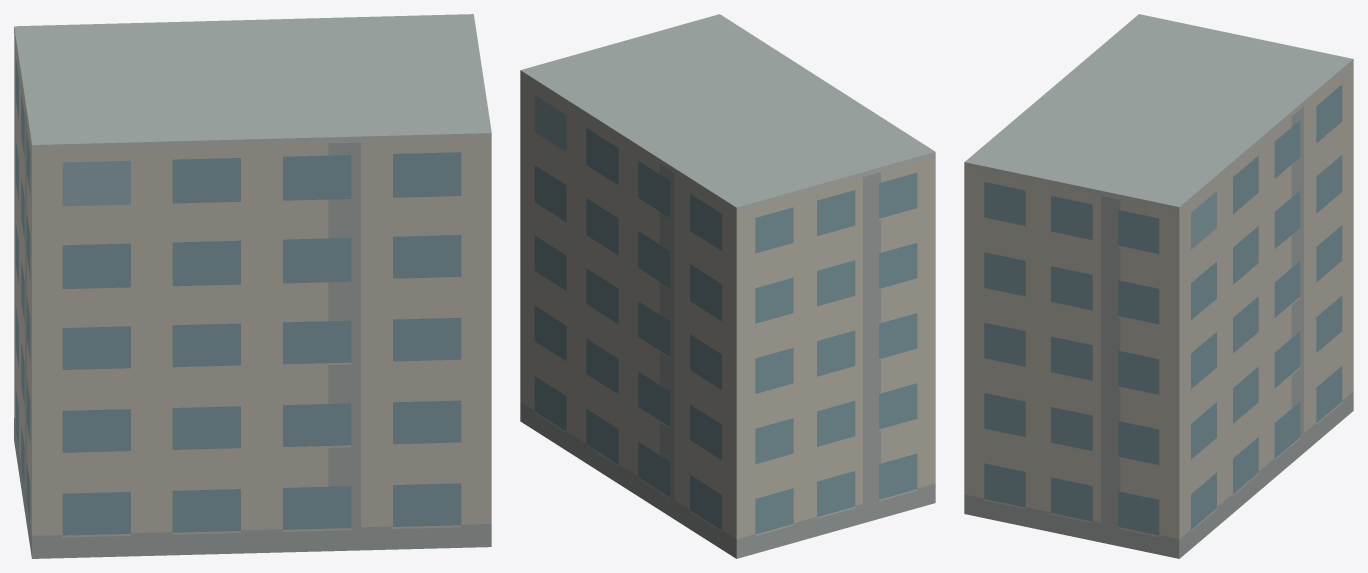
Rendered from survey-upis-32845401.glb.
The picture shows the model from 3 angles, left to right: view 1: azimuth 30°, elevation 25°; view 2: azimuth 150°, elevation 25°; view 3: azimuth 270°, elevation 25°; orthographic projection. The views are drawn at different scales.
Visible parts, largest first — view 1: survey-upis-32845401.tmp; view 2: survey-upis-32845401.tmp; view 3: survey-upis-32845401.tmp.
Boxes of the visible parts, x1,y1,x2,y2 form: survey-upis-32845401.tmp: (14,14,491,558); survey-upis-32845401.tmp: (520,14,935,558); survey-upis-32845401.tmp: (964,14,1353,558).
Size of the model in its own units: 19.78 by 16.8 by 16.85.
